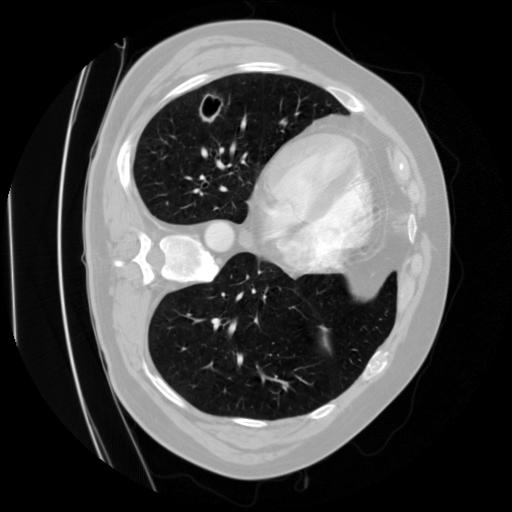nodule: (196, 93, 227, 124)
